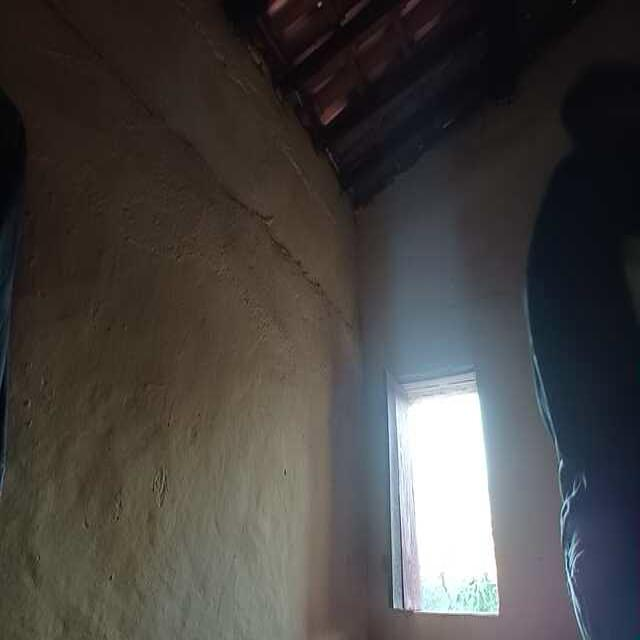capacete: (554, 56, 640, 236)
pessoa: (526, 157, 640, 640)
